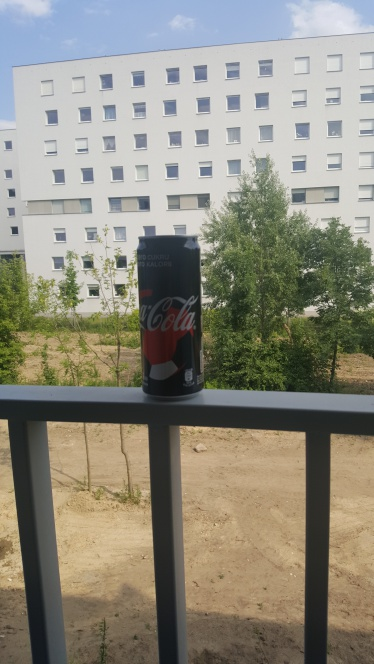colazero: (122, 227, 208, 404)
